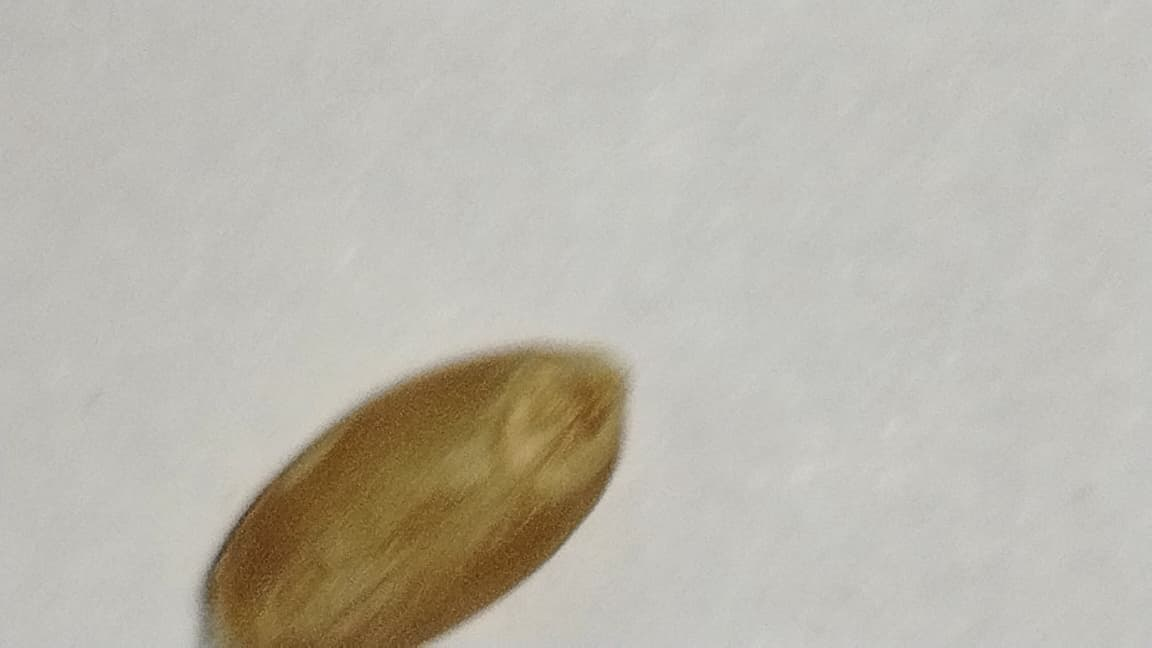healthy: (208, 349, 626, 647)
